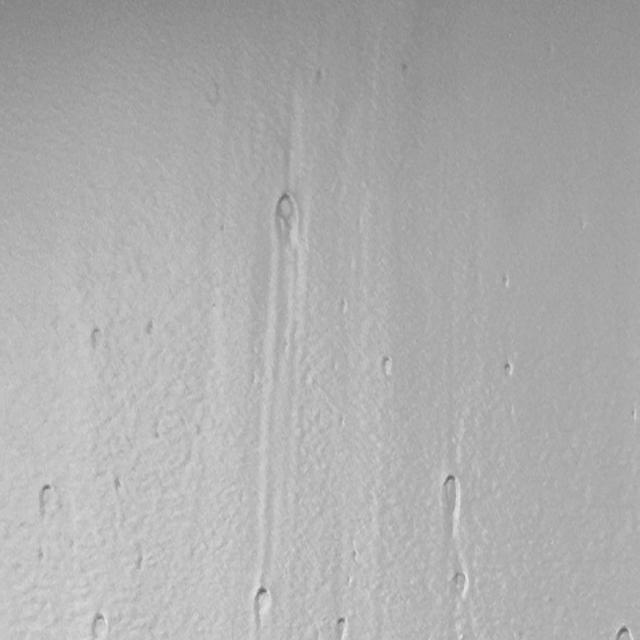pin holes: (270, 189, 307, 253), (434, 472, 467, 536), (250, 587, 272, 626), (34, 479, 57, 516), (88, 609, 111, 640), (451, 569, 472, 597), (87, 324, 107, 352), (332, 616, 352, 640), (497, 272, 515, 295), (132, 552, 145, 580), (379, 356, 394, 380), (502, 360, 517, 382), (144, 315, 156, 339), (613, 625, 635, 638), (112, 472, 123, 496)
